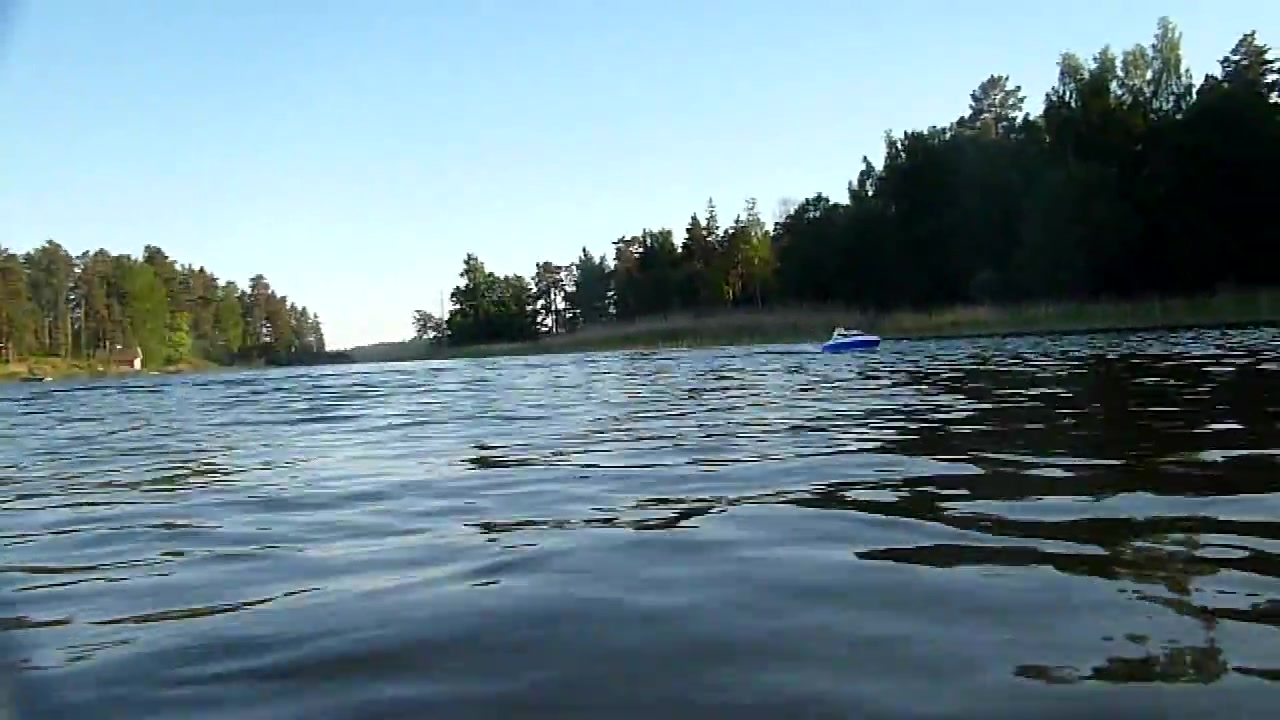boat: (815, 324, 890, 357)
